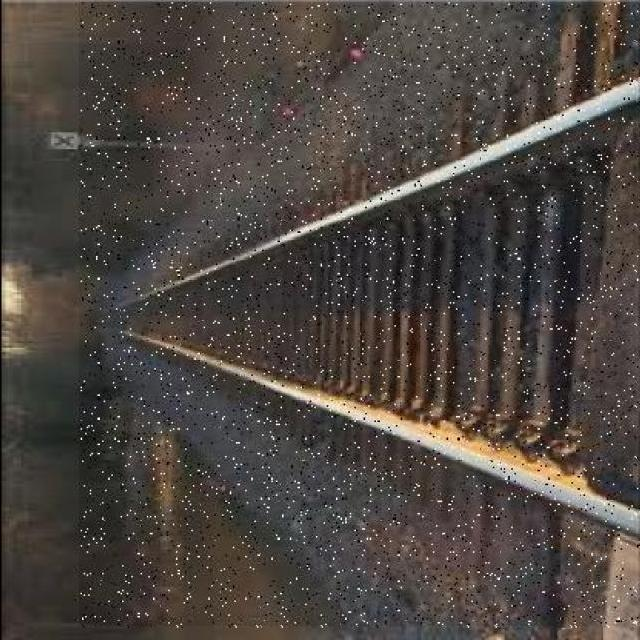rail: (81, 4, 637, 627)
